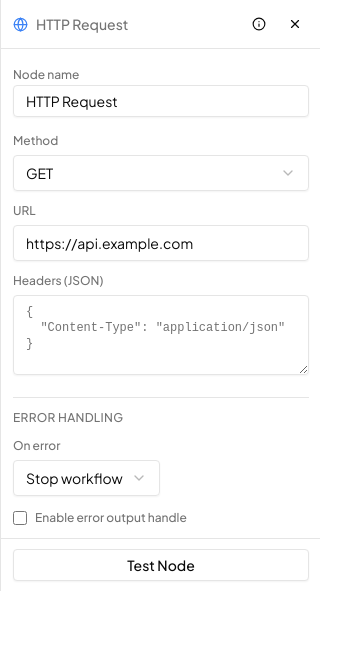
Scenario: ConfigPanel – Test Node button › shows the error panel after a failed test
This screenshot has width=337, height=670.
Click the button "Test Node" at (161, 565), box 13,549 -> 309,581
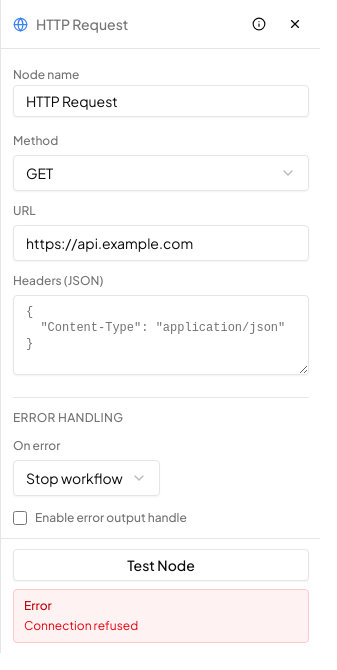
Expected: the text "Error" is shown, 24,598 -> 52,613
Expected: the text "Connection refused" is shown, 24,618 -> 138,633
